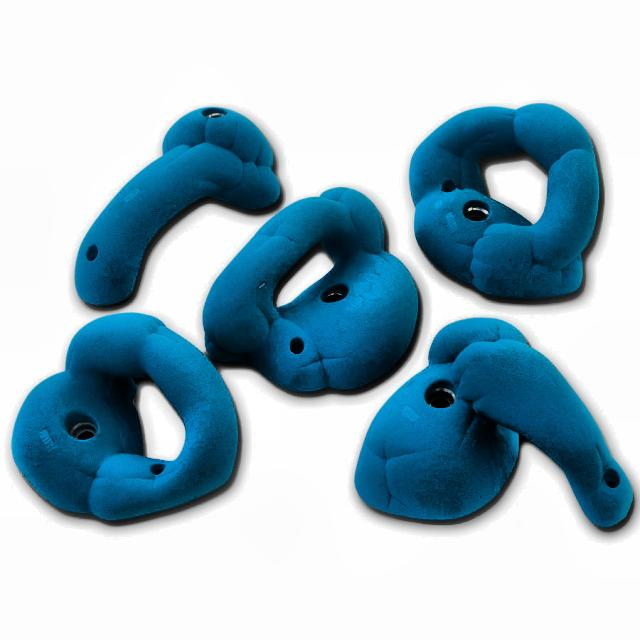Hold: (383, 315, 633, 547), (13, 308, 245, 522), (408, 97, 610, 301), (69, 105, 276, 304), (212, 186, 405, 392)
